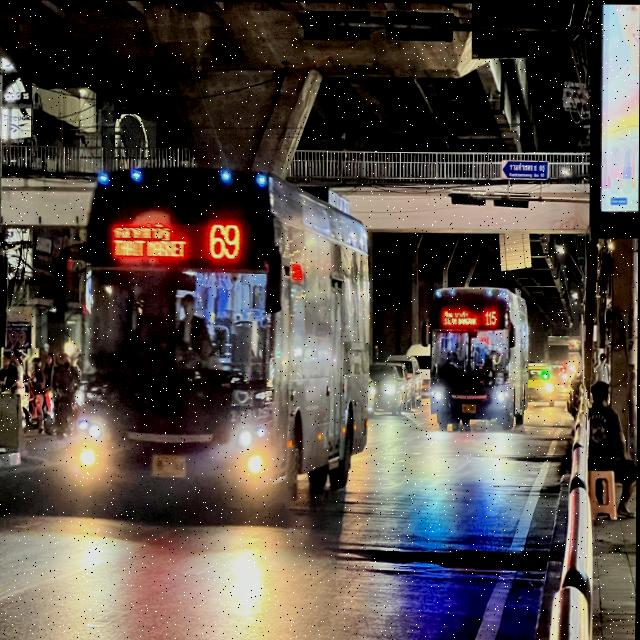Bus Line Number: (199, 217, 248, 265), (482, 306, 501, 327)
Bus Side Number: (226, 404, 272, 423), (492, 383, 510, 390)
Destination Sign: (106, 220, 197, 262), (441, 306, 480, 328)
TSB-Bus: (73, 156, 375, 516), (419, 282, 535, 434)
